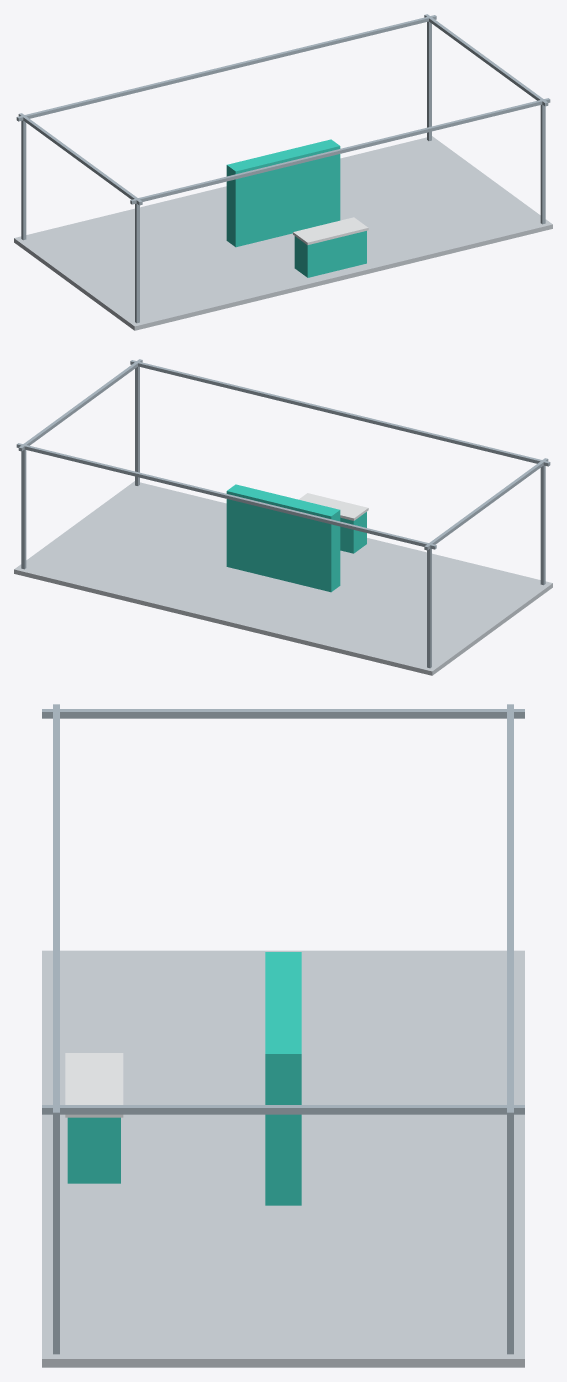
The picture shows the model from 3 angles, top to bottom: view 1: azimuth 30°, elevation 25°; view 2: azimuth 150°, elevation 25°; view 3: azimuth 270°, elevation 25°; orthographic projection. The views are drawn at different scales.
Visible parts, largest first — view 1: Exhibition Booth Concept; view 2: Exhibition Booth Concept; view 3: Exhibition Booth Concept.
Part boxes in pixels (x1,y1,x2,y2): Exhibition Booth Concept: [14, 14, 552, 330]; Exhibition Booth Concept: [14, 359, 552, 675]; Exhibition Booth Concept: [42, 704, 524, 1367].
Size of the model in its own units: 12 by 3.49 by 6.
